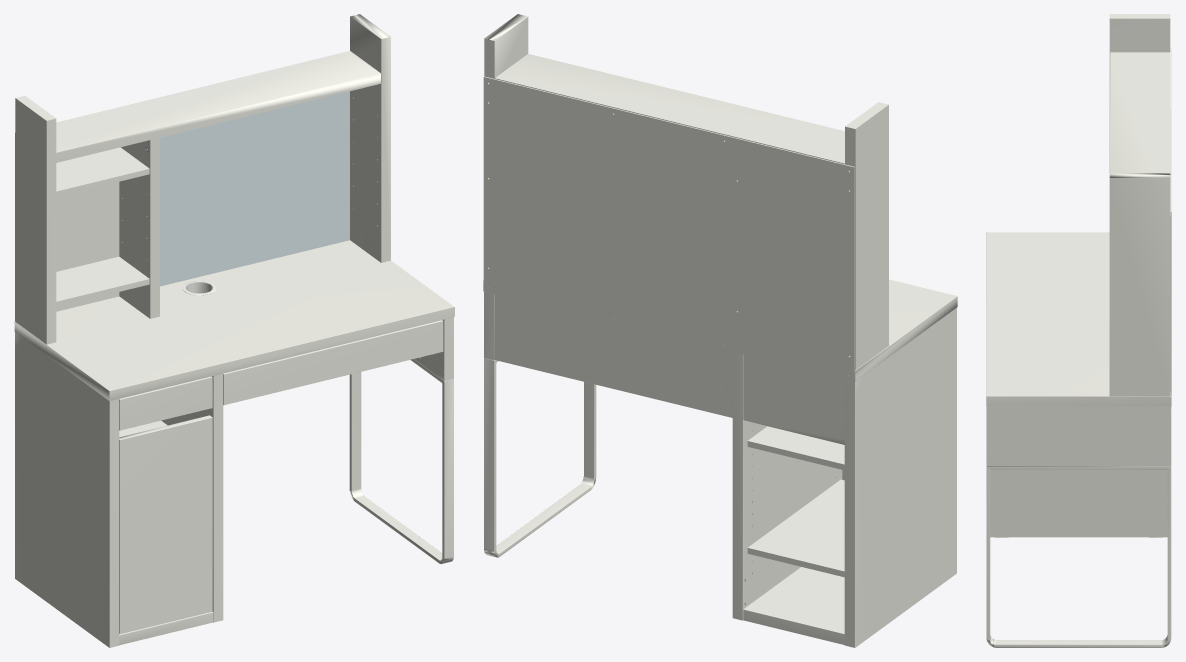
File: 10 - MICKE Desk - white 105x50 cm.glb
3 renders of one model, left to right at view 1: azimuth 30°, elevation 25°; view 2: azimuth 150°, elevation 25°; view 3: azimuth 270°, elevation 25°, orthographic. The views are drawn at different scales.
Bounding box in the file's own units: 1.05 × 1.4 × 0.5002.
1 material, 1 textured.
